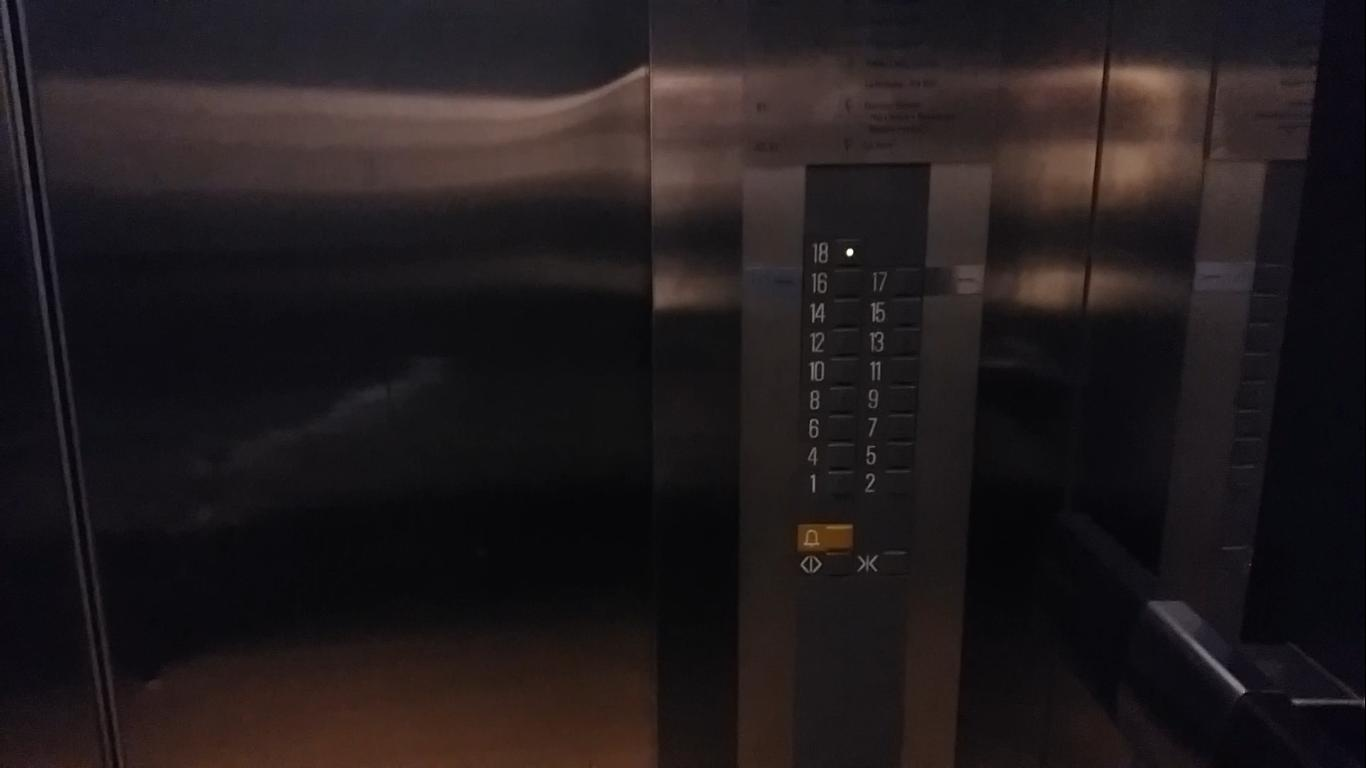1: (788, 468, 858, 500)
10: (795, 356, 860, 389)
11: (861, 354, 922, 389)
12: (796, 325, 861, 359)
13: (861, 324, 924, 360)
14: (797, 296, 863, 330)
15: (862, 294, 926, 330)
16: (798, 265, 864, 301)
17: (861, 264, 926, 300)
18: (799, 234, 865, 271)
2: (857, 467, 919, 500)
4: (789, 440, 857, 473)
5: (858, 438, 918, 472)
6: (791, 412, 859, 447)
7: (860, 409, 919, 445)
8: (794, 385, 861, 417)
9: (861, 383, 920, 416)
alarm: (794, 522, 855, 553)
close: (853, 550, 909, 578)
open: (794, 549, 854, 579)
